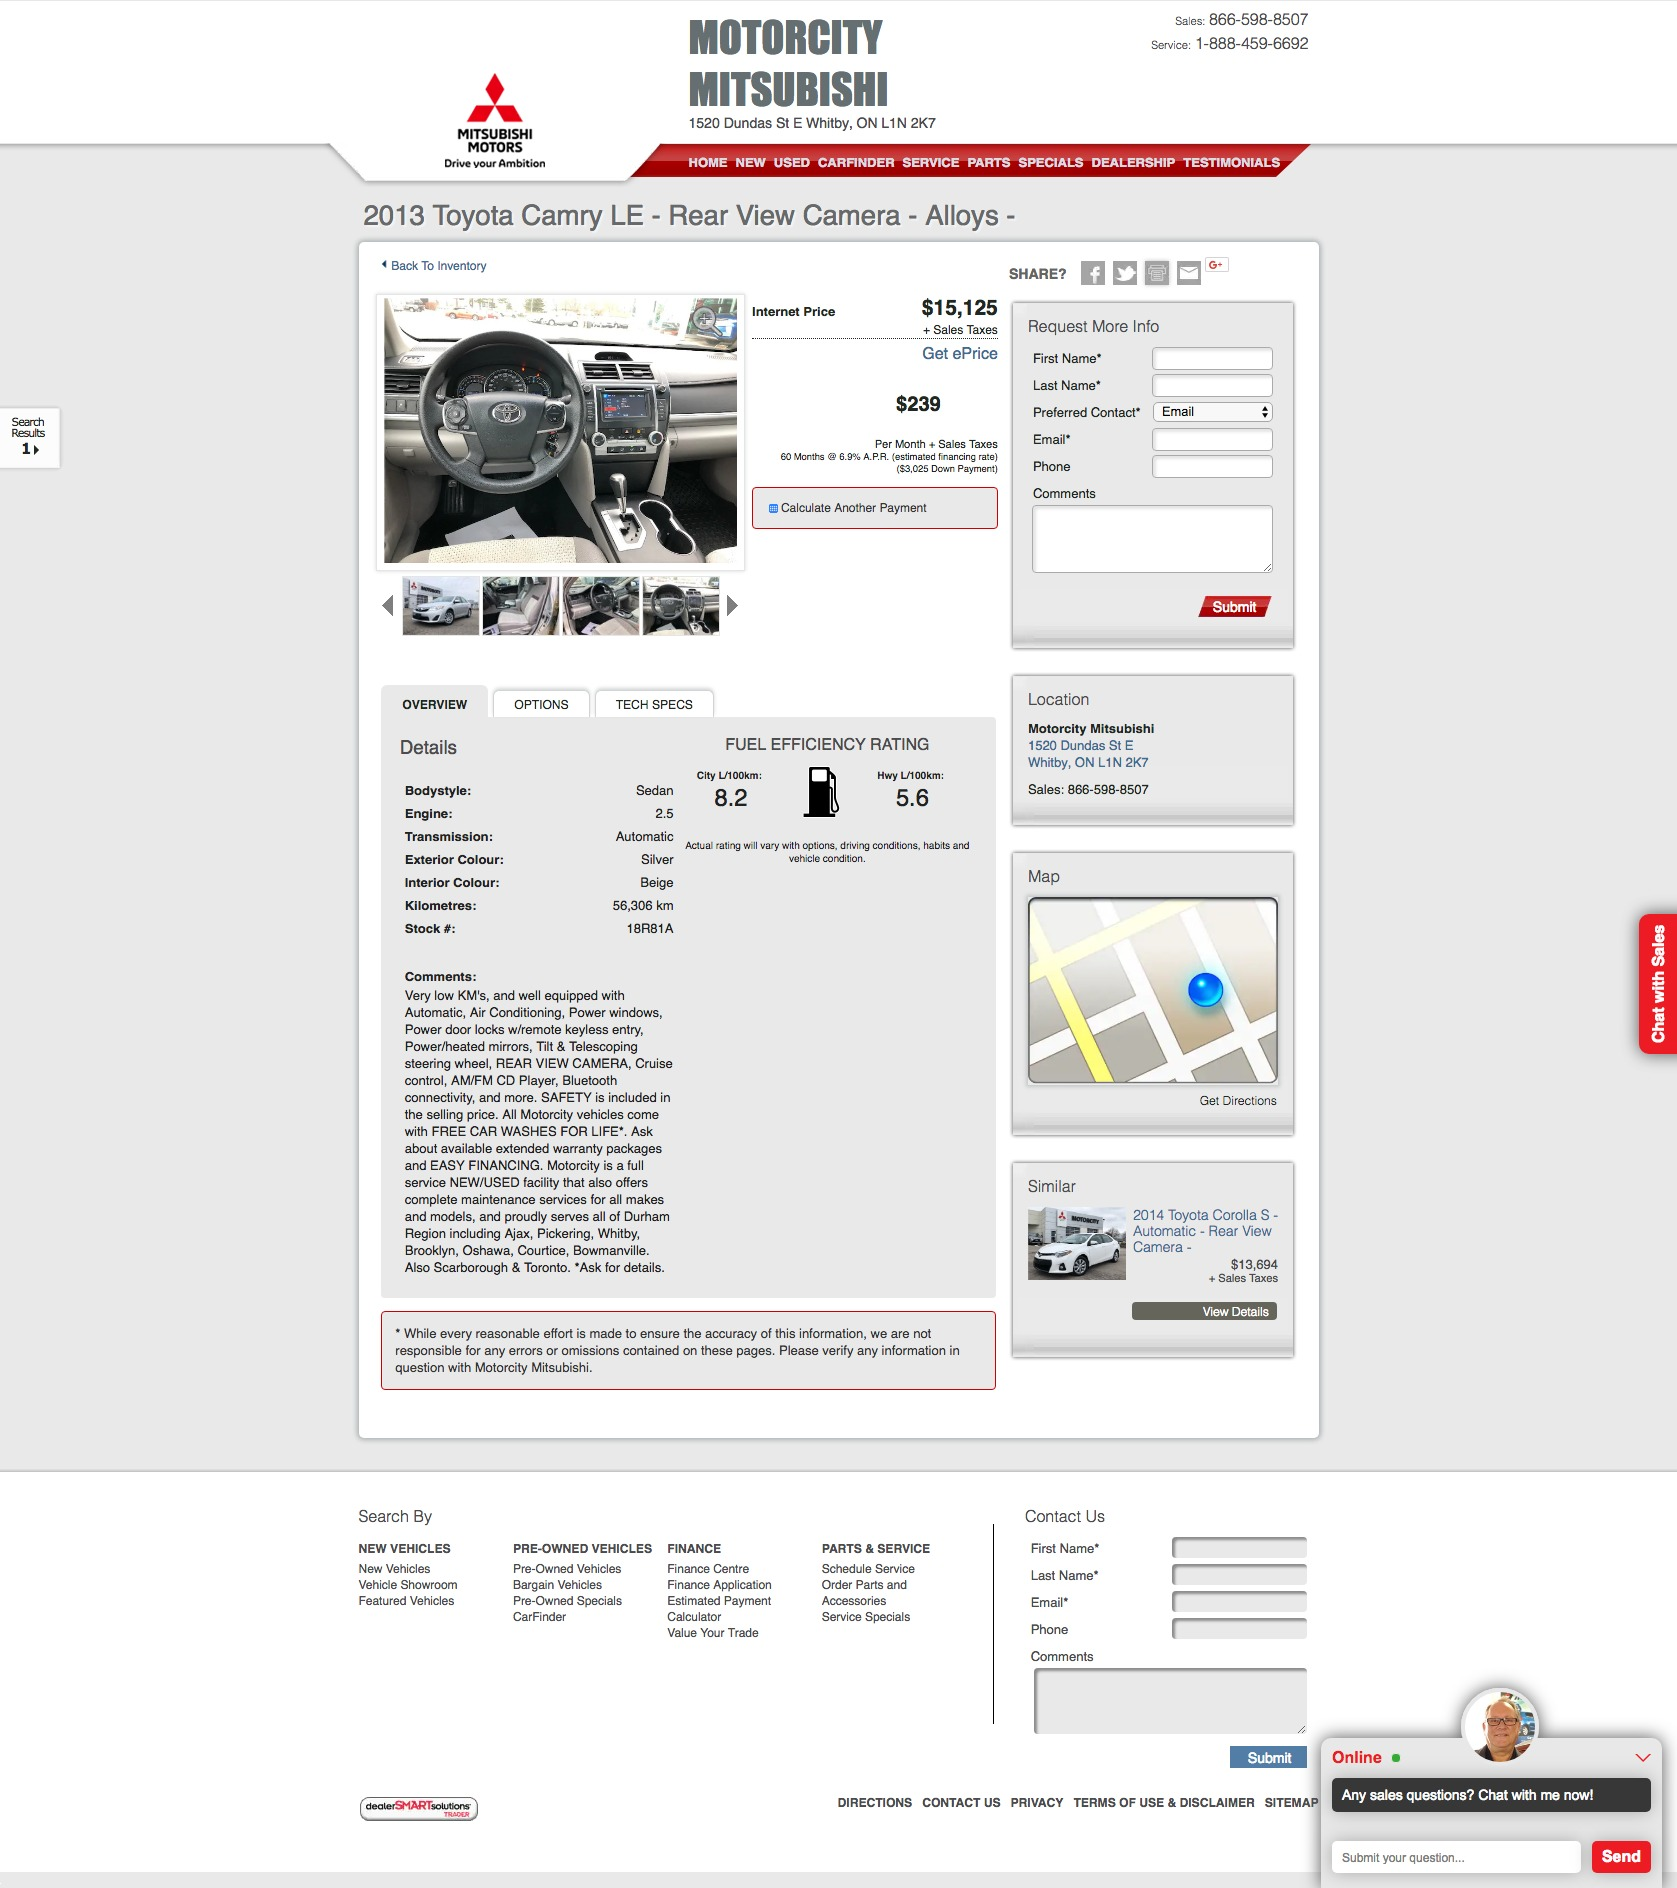car: (727, 594, 740, 619)
